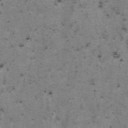oxide scale of temperature system: (62, 0, 127, 59), (62, 104, 96, 128), (18, 35, 48, 51), (0, 62, 16, 90), (90, 78, 96, 86), (118, 102, 126, 108), (37, 6, 42, 13), (48, 90, 52, 96)
